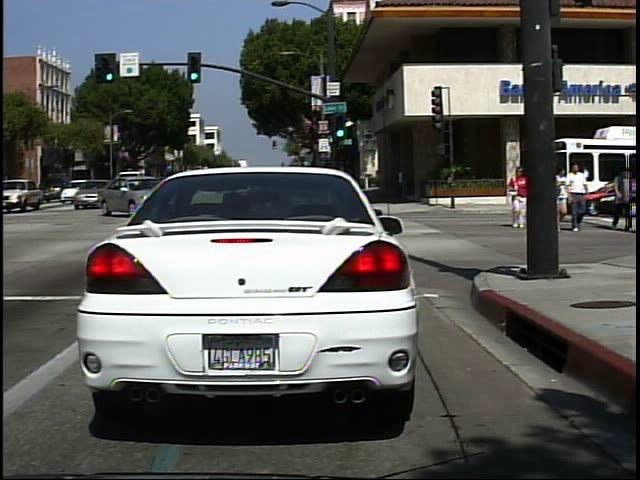person: (563, 160, 591, 236), (608, 165, 636, 234), (504, 165, 528, 232), (547, 165, 569, 230)
